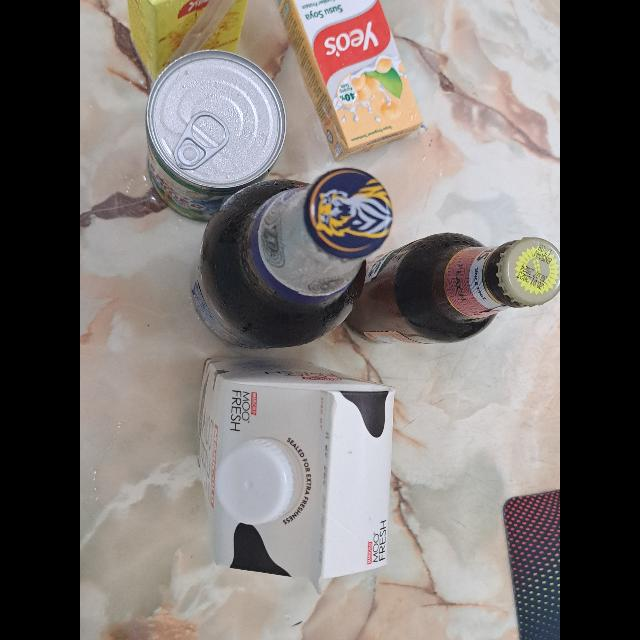aba de lata: (170, 105, 228, 171)
caixinha: (200, 356, 394, 582), (273, 0, 425, 158), (122, 0, 258, 80)
garrafa de vidro: (198, 167, 396, 355), (348, 232, 560, 346)
lata: (142, 48, 286, 218)
tampa plástica: (210, 439, 290, 528)
